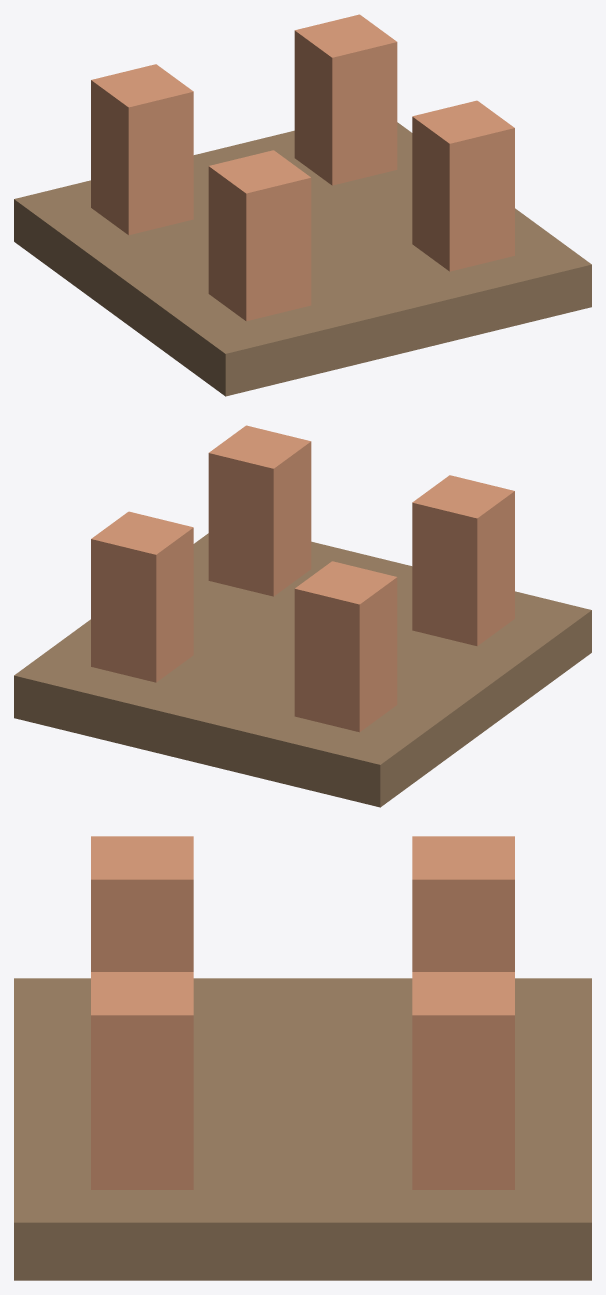
The model's file is Prop_DS_Crop_Bitroot_S2_V2.glb.
The picture shows the model from 3 angles, top to bottom: view 1: azimuth 30°, elevation 25°; view 2: azimuth 150°, elevation 25°; view 3: azimuth 270°, elevation 25°; orthographic projection. The views are drawn at different scales.
Parts seen in each view (by area): view 1: Prop_DS_Crop_Bitroot_S2_V2; view 2: Prop_DS_Crop_Bitroot_S2_V2; view 3: Prop_DS_Crop_Bitroot_S2_V2.
Boxes of the visible parts, left/top/right/bottom form: Prop_DS_Crop_Bitroot_S2_V2: left=14, top=14, right=591, bottom=396; Prop_DS_Crop_Bitroot_S2_V2: left=14, top=425, right=591, bottom=807; Prop_DS_Crop_Bitroot_S2_V2: left=14, top=836, right=591, bottom=1280.
Size of the model in its own units: 0.9 by 0.4 by 0.9.
